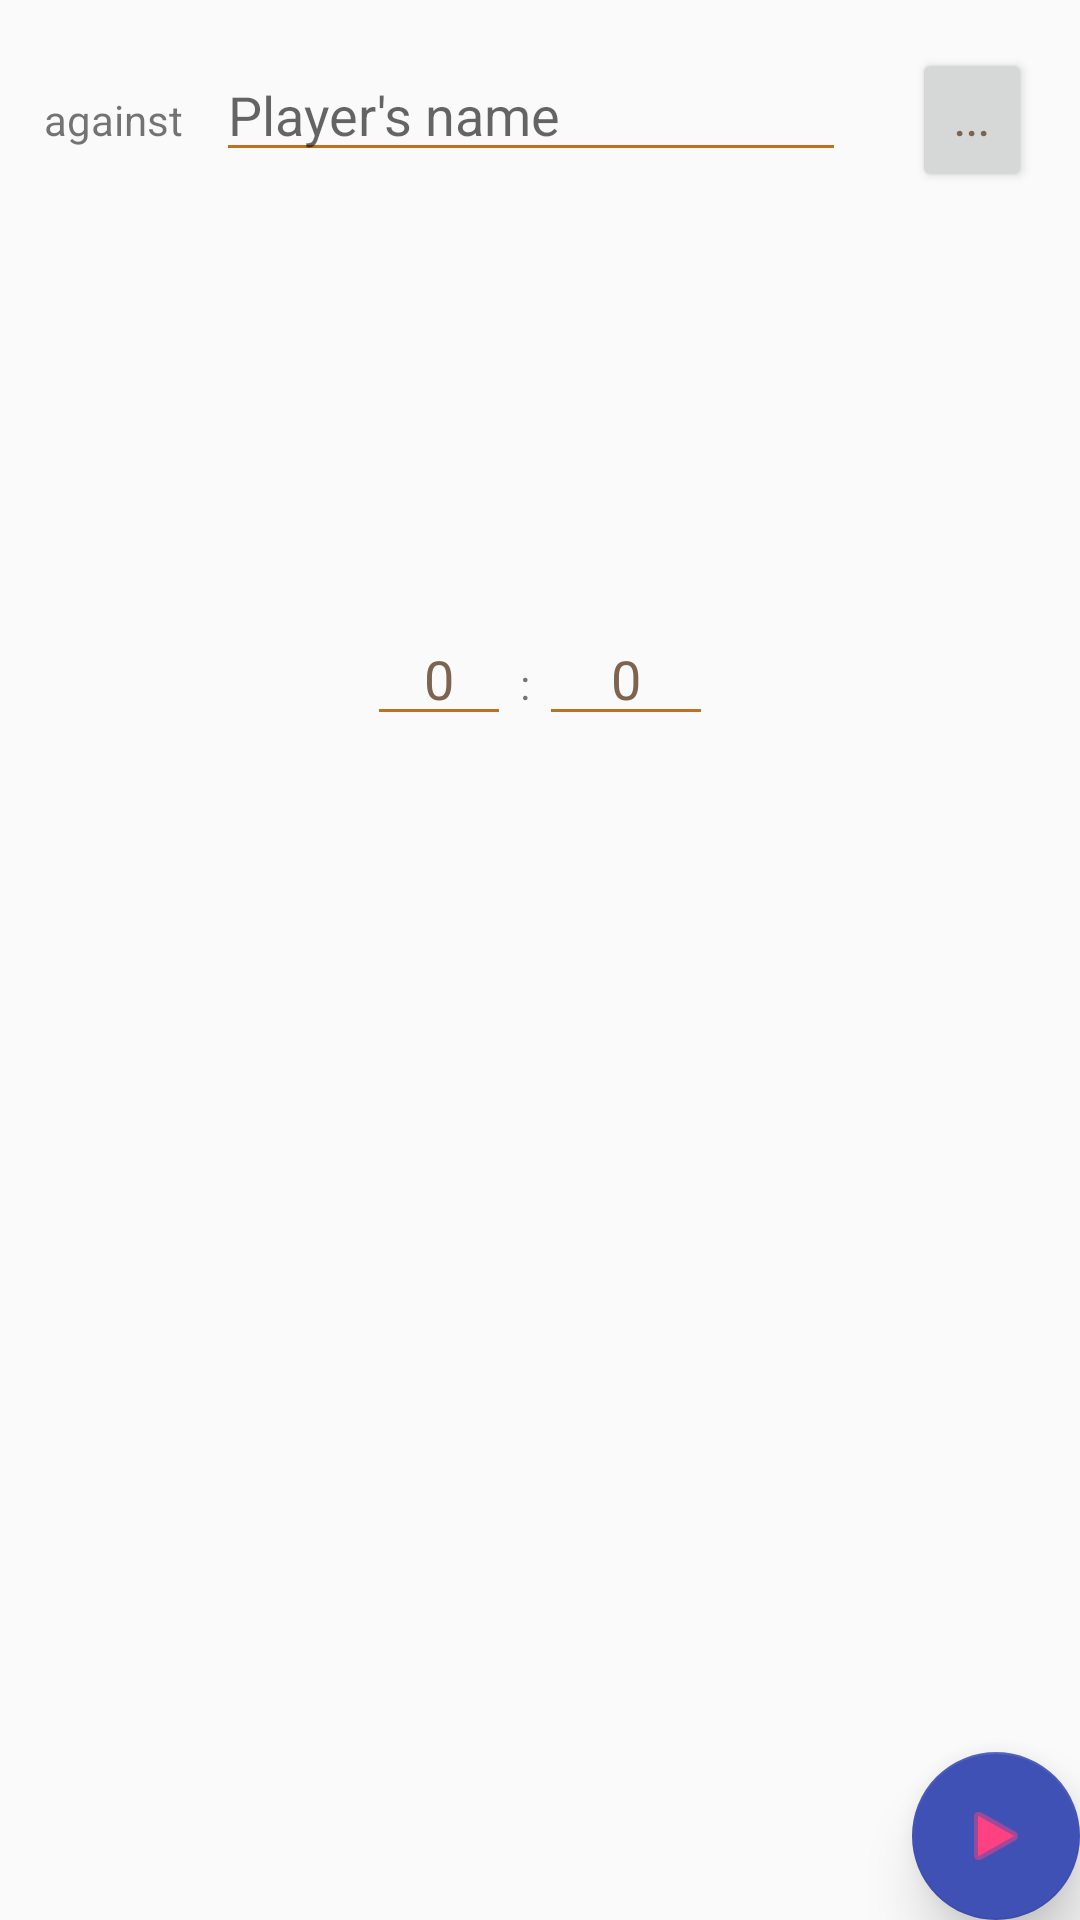

Icon click points for this 1080 x 1920 phone screenshot, format (x,y):
play: (996,1836)
